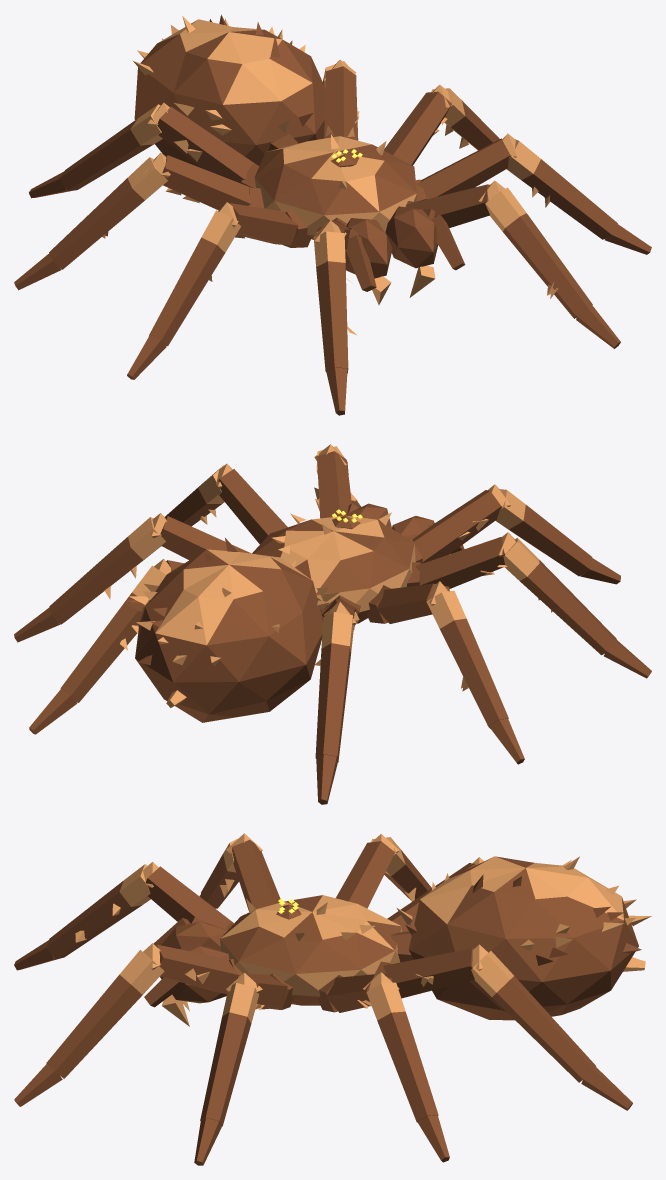
The model's file is goliath.glb.
The picture shows the model from 3 angles, top to bottom: view 1: azimuth 30°, elevation 25°; view 2: azimuth 150°, elevation 25°; view 3: azimuth 270°, elevation 25°; orthographic projection.
Visible parts, largest first — view 1: abdomen, body, leg_L1_lower, fangs, leg_R1_lower, leg_R2_lower, leg_R3_lower, leg_L2_lower, leg_R4_lower, leg_R4_upper, leg_R3_upper, leg_L2_upper (+7 smaller); view 2: abdomen, body, leg_R4_lower, leg_R2_lower, leg_R3_lower, leg_L3_lower, leg_L4_lower, leg_R1_lower, leg_R1_upper, leg_R2_upper, leg_L2_upper, leg_R3_upper (+4 smaller); view 3: abdomen, body, leg_L4_lower, leg_L1_lower, leg_L2_lower, leg_L3_lower, leg_R1_lower, leg_L4_upper, fangs, leg_L1_upper, leg_R1_upper, leg_R2_upper (+7 smaller).
Boxes of the visible parts, bbox=[...] form: abdomen: bbox=[133, 14, 325, 168]; body: bbox=[254, 125, 416, 239]; leg_L1_lower: bbox=[478, 180, 620, 348]; fangs: bbox=[345, 206, 438, 305]; leg_R1_lower: bbox=[313, 220, 356, 415]; leg_R2_lower: bbox=[127, 202, 240, 379]; leg_R3_lower: bbox=[14, 152, 170, 290]; leg_L2_lower: bbox=[502, 133, 651, 254]; leg_R4_lower: bbox=[29, 102, 169, 198]; leg_R4_upper: bbox=[157, 106, 259, 187]; leg_R3_upper: bbox=[162, 155, 264, 210]; leg_L2_upper: bbox=[415, 138, 510, 201]; abdomen: bbox=[124, 538, 339, 722]; body: bbox=[252, 509, 415, 623]; leg_R4_lower: bbox=[314, 602, 356, 804]; leg_R2_lower: bbox=[498, 532, 651, 678]; leg_R3_lower: bbox=[426, 581, 524, 764]; leg_L3_lower: bbox=[14, 513, 167, 642]; leg_L4_lower: bbox=[29, 559, 171, 734]; leg_R1_lower: bbox=[488, 484, 620, 584]; leg_R1_upper: bbox=[410, 490, 501, 563]; leg_R2_upper: bbox=[407, 536, 507, 588]; leg_L2_upper: bbox=[218, 469, 287, 544]; leg_R3_upper: bbox=[367, 583, 449, 623]; abdomen: bbox=[391, 856, 651, 1020]; body: bbox=[220, 895, 401, 1005]; leg_L4_lower: bbox=[471, 944, 632, 1110]; leg_L1_lower: bbox=[14, 943, 164, 1106]; leg_L2_lower: bbox=[194, 972, 262, 1165]; leg_L3_lower: bbox=[363, 972, 449, 1162]; leg_R1_lower: bbox=[14, 862, 158, 970]; leg_L4_upper: bbox=[375, 948, 474, 998]; fangs: bbox=[160, 922, 228, 1026]; leg_L1_upper: bbox=[155, 944, 242, 994]; leg_R1_upper: bbox=[145, 866, 233, 930]; leg_R2_upper: bbox=[232, 840, 280, 911].
Size of the model in its own units: 6.4 by 2.03 by 6.64.
